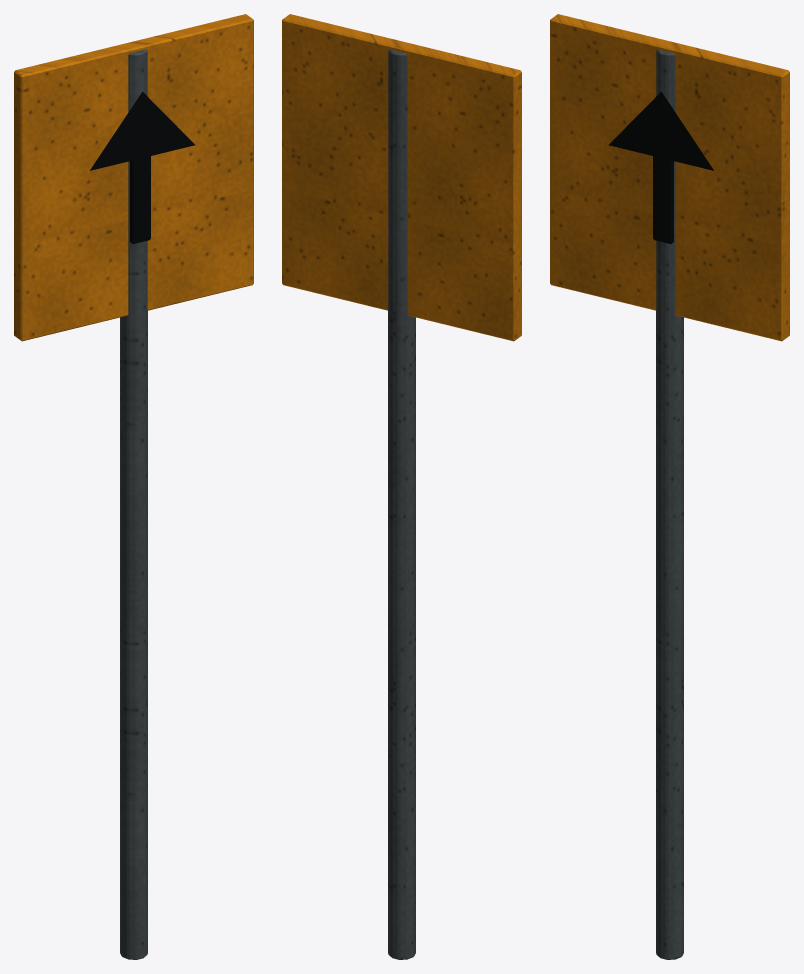
File: PROP-7F4A2C901710_lod1.glb
3 renders of one model, left to right at view 1: azimuth 30°, elevation 25°; view 2: azimuth 150°, elevation 25°; view 3: azimuth 330°, elevation 25°, orthographic.
Parts seen in each view (by area): view 1: sign_plate.010, sign_post.012, direction_symbol.007, symbol_stem.007; view 2: sign_plate.010, sign_post.012; view 3: sign_plate.010, sign_post.012, direction_symbol.007, symbol_stem.007.
Boxes of the visible parts, left/top/right/bottom form: sign_plate.010: left=14, top=14, right=253, bottom=341; sign_post.012: left=120, top=49, right=147, bottom=959; direction_symbol.007: left=90, top=91, right=195, bottom=170; symbol_stem.007: left=130, top=156, right=150, bottom=243; sign_plate.010: left=282, top=14, right=521, bottom=341; sign_post.012: left=388, top=49, right=415, bottom=959; sign_plate.010: left=550, top=14, right=789, bottom=341; sign_post.012: left=656, top=49, right=683, bottom=959; direction_symbol.007: left=608, top=91, right=713, bottom=170; symbol_stem.007: left=653, top=156, right=673, bottom=243.
Bounding box in the file's own units: 0.66 × 2.46 × 0.0753.
Materials: 3 (3 with a texture image).
